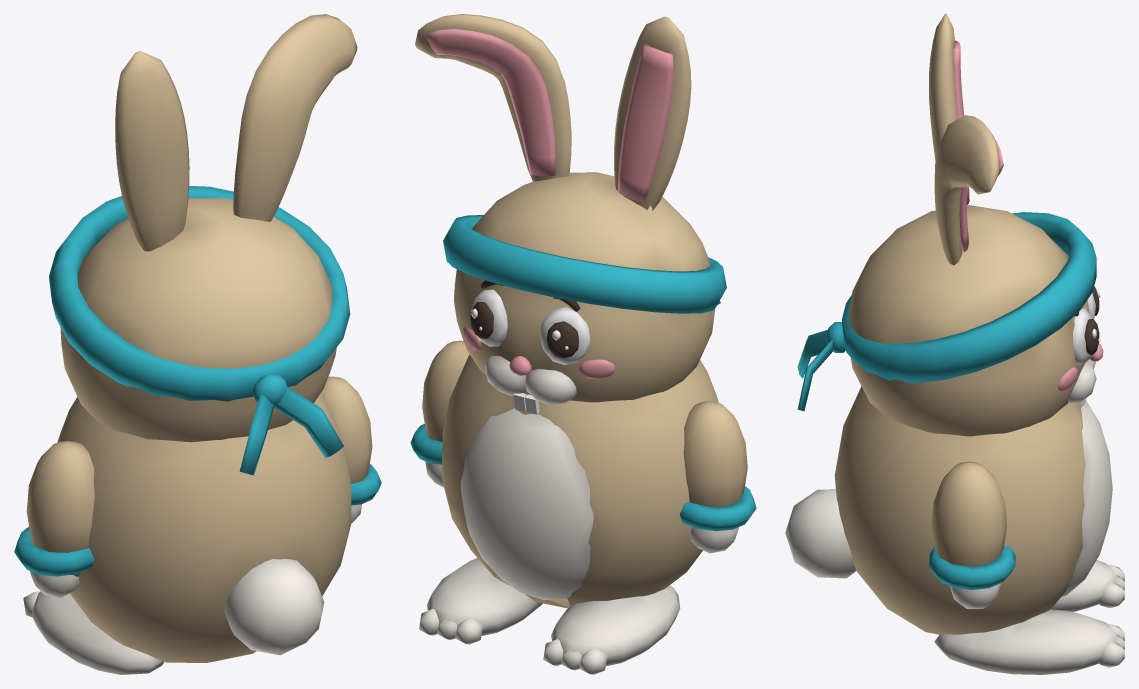
File: hoppla.glb
3 renders of one model, left to right at view 1: azimuth 30°, elevation 25°; view 2: azimuth 150°, elevation 25°; view 3: azimuth 270°, elevation 25°, orthographic. The views are drawn at different scales.
Parts seen in each view (by area): view 1: head__c_dcc39b, body__c_dcc39b, head__c_2fb3c6, body__c_fbf6ee, armR__c_dcc39b, armL__c_dcc39b, armR__c_2fb3c6, armR__c_fbf6ee, armL__c_2fb3c6; view 2: head__c_dcc39b, body__c_fbf6ee, body__c_dcc39b, head__c_f3a3b0, head__c_2fb3c6, armR__c_dcc39b, head__c_ffffff, armL__c_dcc39b, head__c_fbf6ee, armR__c_2fb3c6, head__c_4a3a32, armR__c_fbf6ee (+1 smaller); view 3: head__c_dcc39b, body__c_dcc39b, body__c_fbf6ee, head__c_2fb3c6, armL__c_dcc39b, armL__c_2fb3c6, head__c_f3a3b0, head__c_ffffff, armL__c_fbf6ee, head__c_fbf6ee, head__c_4a3a32.
Boxes of the visible parts, box(x1,y1,x2,y2) form: head__c_dcc39b: box(60, 14, 357, 442); body__c_dcc39b: box(57, 391, 351, 662); head__c_2fb3c6: box(49, 186, 350, 475); body__c_fbf6ee: box(23, 559, 324, 674); armR__c_dcc39b: box(26, 441, 94, 576); armL__c_dcc39b: box(322, 376, 372, 483); armR__c_2fb3c6: box(14, 526, 94, 576); armR__c_fbf6ee: box(30, 571, 79, 597); armL__c_2fb3c6: box(351, 464, 381, 505); head__c_dcc39b: box(415, 14, 715, 402); body__c_fbf6ee: box(419, 408, 680, 674); body__c_dcc39b: box(442, 354, 718, 608); head__c_f3a3b0: box(426, 29, 673, 379); head__c_2fb3c6: box(443, 215, 726, 313); armR__c_dcc39b: box(683, 401, 747, 506); head__c_ffffff: box(471, 289, 590, 414); armL__c_dcc39b: box(422, 340, 469, 441); head__c_fbf6ee: box(485, 356, 576, 405); armR__c_2fb3c6: box(679, 486, 756, 531); head__c_4a3a32: box(470, 280, 580, 358); armR__c_fbf6ee: box(690, 526, 738, 553); head__c_dcc39b: box(849, 14, 1089, 436); body__c_dcc39b: box(834, 386, 1085, 634); body__c_fbf6ee: box(785, 400, 1124, 674); head__c_2fb3c6: box(797, 212, 1096, 411); armL__c_dcc39b: box(931, 461, 1006, 566); armL__c_2fb3c6: box(929, 546, 1015, 589); head__c_f3a3b0: box(953, 40, 1103, 391); head__c_ffffff: box(1073, 289, 1100, 405); armL__c_fbf6ee: box(950, 583, 1001, 608); head__c_fbf6ee: box(1068, 359, 1096, 402); head__c_4a3a32: box(1074, 286, 1099, 354).
Bounding box in the file's own units: 1.29 × 2.22 × 1.16.
